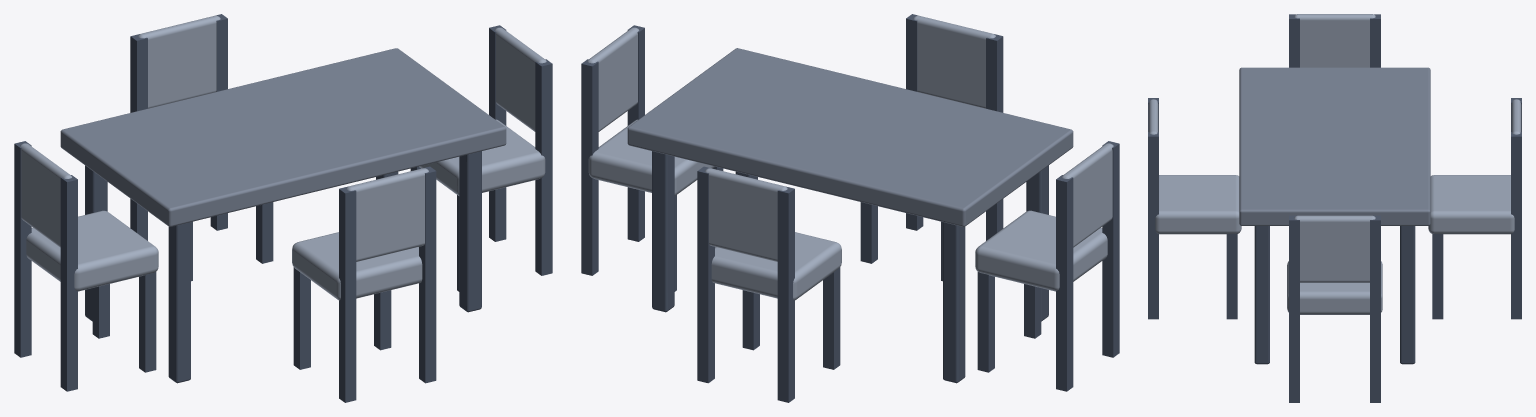
The model's file is table.glb.
The picture shows the model from 3 angles, left to right: view 1: azimuth 30°, elevation 25°; view 2: azimuth 150°, elevation 25°; view 3: azimuth 270°, elevation 25°; orthographic projection. The views are drawn at different scales.
Parts seen in each view (by area): view 1: table; view 2: table; view 3: table.
Boxes of the visible parts, x1,y1,x2,y2 form: table: (14,14,552,402); table: (581,14,1119,402); table: (1148,14,1521,402).
Size of the model in its own units: 2.21 by 0.9192 by 1.69.
